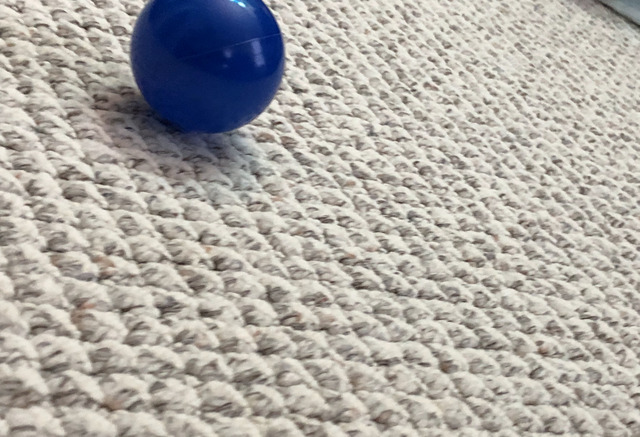Ball: (129, 1, 283, 134)
